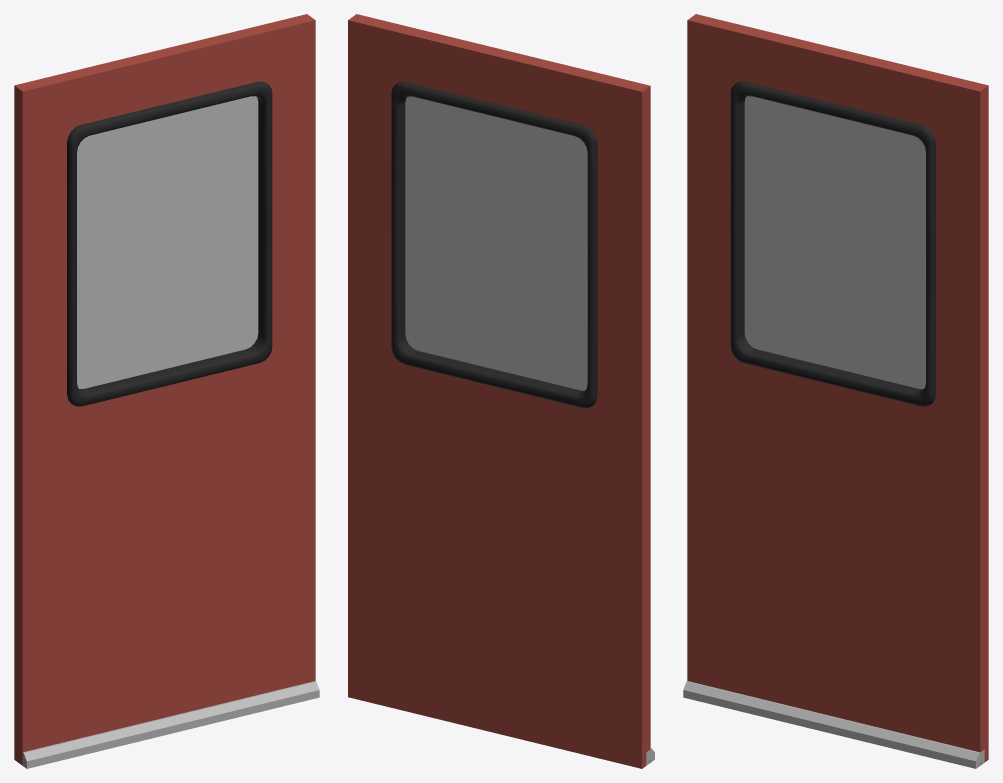
Rendered from wall_window.fbx.
3 renders of one model, left to right at view 1: azimuth 30°, elevation 25°; view 2: azimuth 150°, elevation 25°; view 3: azimuth 330°, elevation 25°, orthographic.
Visible parts, largest first — view 1: wall_window; view 2: wall_window; view 3: wall_window.
Boxes of the visible parts, x1=… form: wall_window: x1=14, y1=14, x2=319, y2=768; wall_window: x1=348, y1=14, x2=654, y2=768; wall_window: x1=683, y1=14, x2=988, y2=768.
Size of the model in its own units: 100 by 220 by 9.22.
